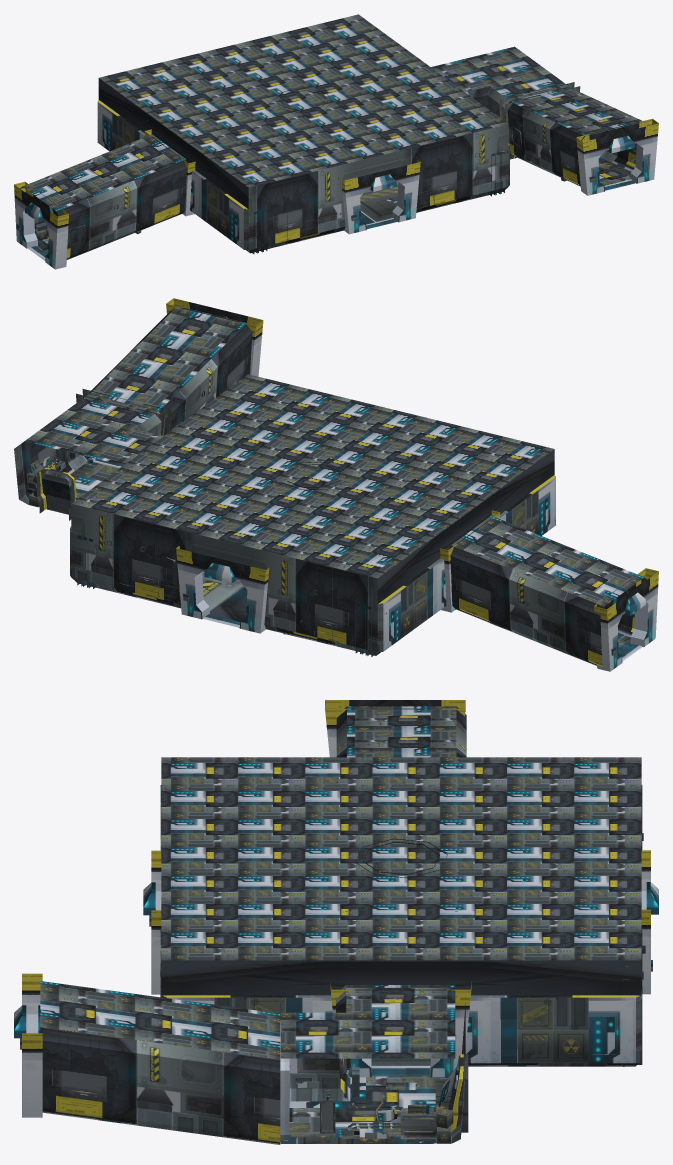
Rendered from Combined_Mesh_root_scene__12_ac3e1c64__ZombiesII_laboratory_08_d_36b73b52_c1f257.obj.
The picture shows the model from 3 angles, top to bottom: view 1: azimuth 30°, elevation 25°; view 2: azimuth 150°, elevation 25°; view 3: azimuth 270°, elevation 25°; orthographic projection. The views are drawn at different scales.
Size of the model in its own units: 78.61 by 13.91 by 53.73.
273 materials, 273 textured.
